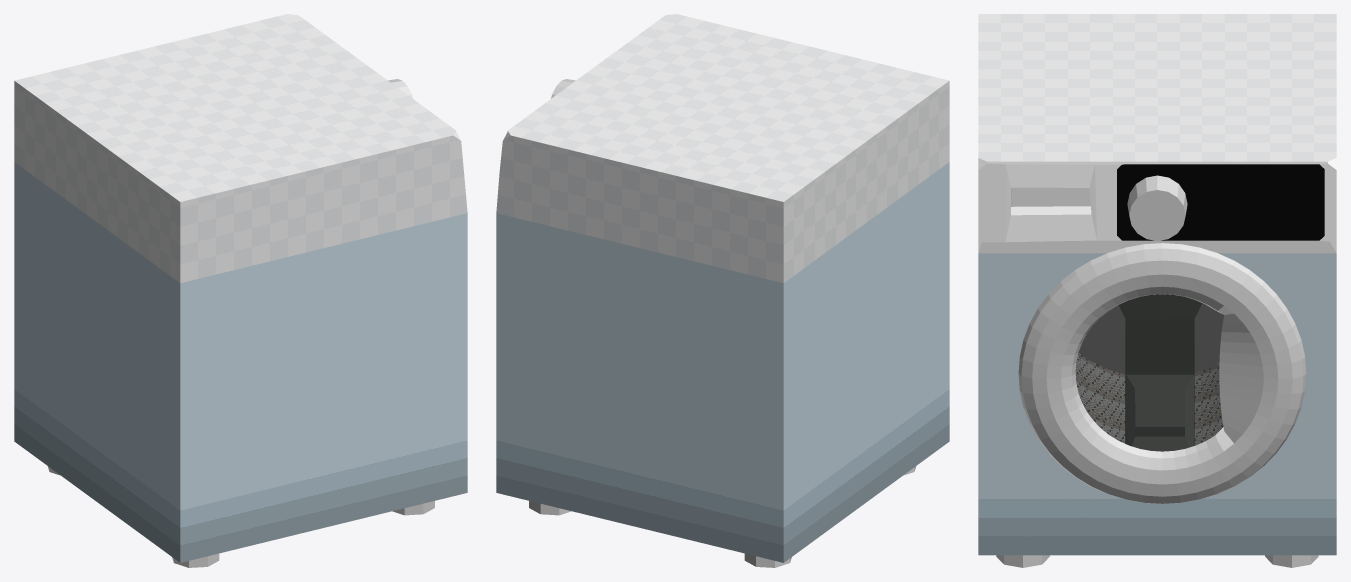
The model's file is washing machine with checkerboard.glb.
3 views of the same model, side by side, from view 1: azimuth 30°, elevation 25°; view 2: azimuth 150°, elevation 25°; view 3: azimuth 270°, elevation 25° (orthographic). The views are drawn at different scales.
Parts seen in each view (by area): view 1: Washing Machine; view 2: Washing Machine; view 3: Washing Machine, Torus, Drum Washer, Drum, Knob, Cylinder, Cylinder.002.
Part boxes in pixels (left/top/right/bottom): Washing Machine: left=14, top=14, right=467, bottom=562; Washing Machine: left=496, top=14, right=949, bottom=562; Washing Machine: left=978, top=14, right=1336, bottom=555; Torus: left=1018, top=243, right=1306, bottom=503; Drum Washer: left=1118, top=294, right=1202, bottom=451; Drum: left=1075, top=303, right=1224, bottom=445; Knob: left=1127, top=175, right=1187, bottom=240; Cylinder: left=996, top=555, right=1049, bottom=567; Cylinder.002: left=1265, top=555, right=1318, bottom=567.
Bounding box in the file's own units: 4.25 × 5.05 × 4.
Materials: 7 (3 with a texture image).
